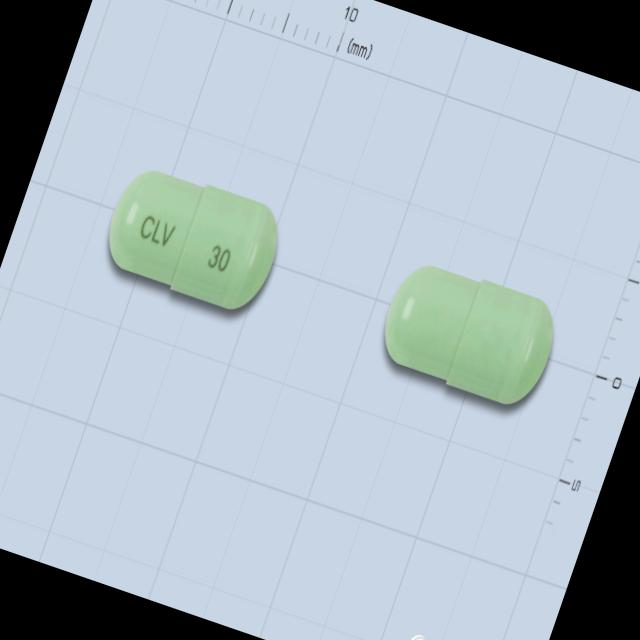Levovir Cap: (94, 156, 291, 320)
